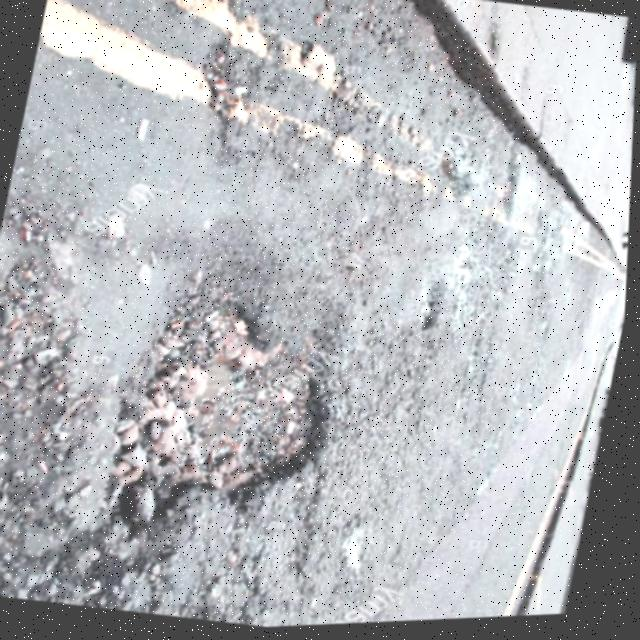Pothole: (83, 269, 395, 584), (406, 268, 462, 342)
